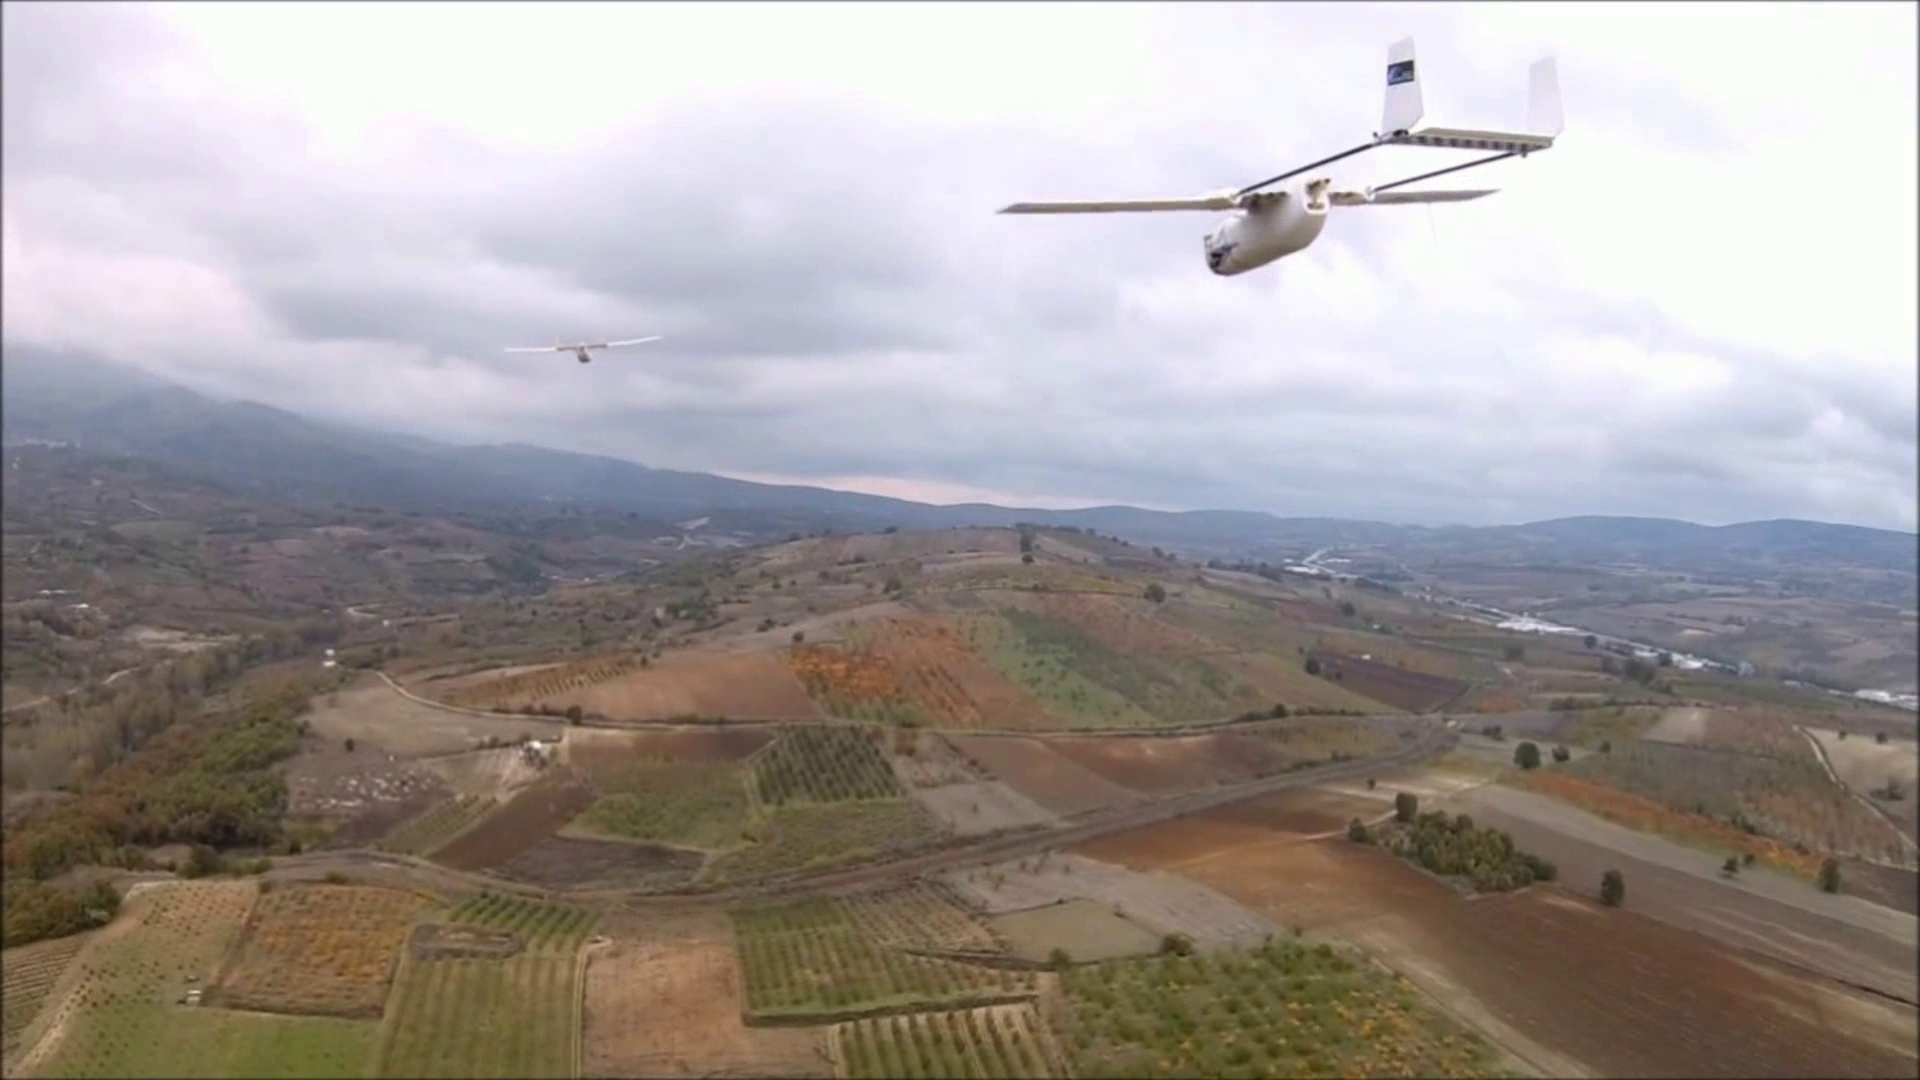airplane: (998, 40, 1563, 278)
